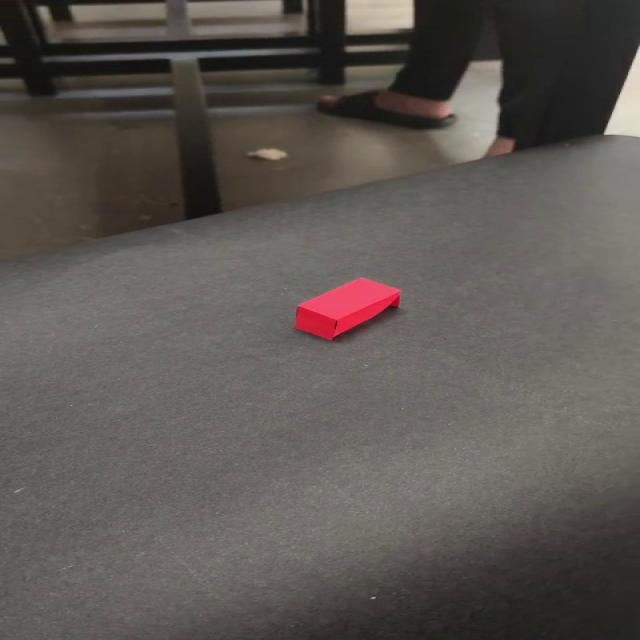red block: (294, 276, 402, 341)
